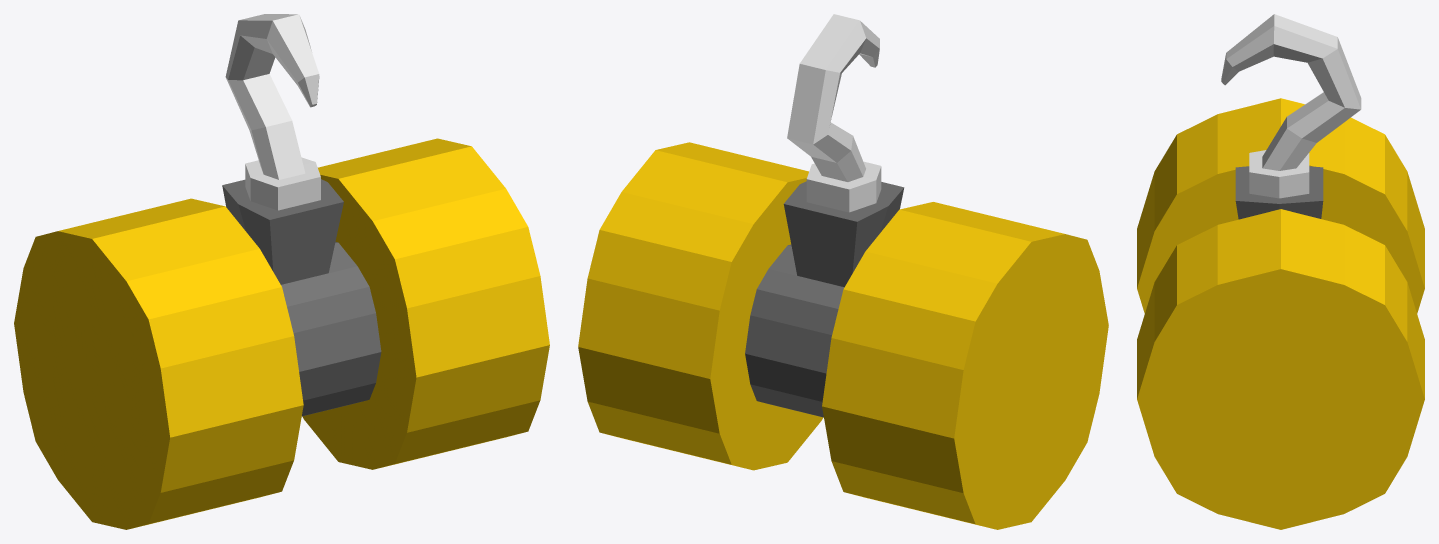
Rendered from Talha_A01.fbx.
The picture shows the model from 3 angles, left to right: view 1: azimuth 30°, elevation 25°; view 2: azimuth 150°, elevation 25°; view 3: azimuth 270°, elevation 25°; orthographic projection. The views are drawn at different scales.
Parts seen in each view (by area): view 1: Plano; view 2: Plano; view 3: Plano.
Boxes of the visible parts, left/top/right/bottom form: Plano: left=14, top=14, right=549, bottom=529; Plano: left=578, top=14, right=1108, bottom=529; Plano: left=1137, top=14, right=1424, bottom=529.
Bounding box in the file's own units: 15.43 × 17.9 × 11.
